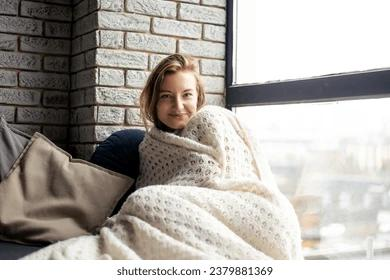blanket: (17, 104, 302, 261)
